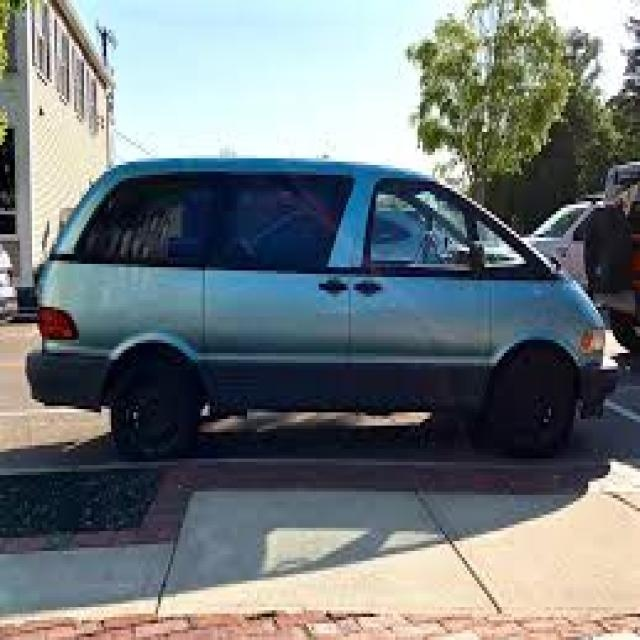Van: (20, 158, 608, 462)
